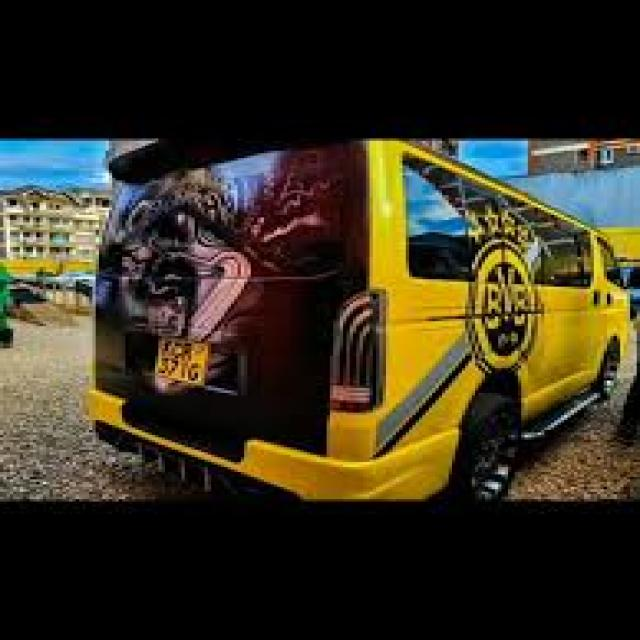matatu: (62, 113, 640, 516)
